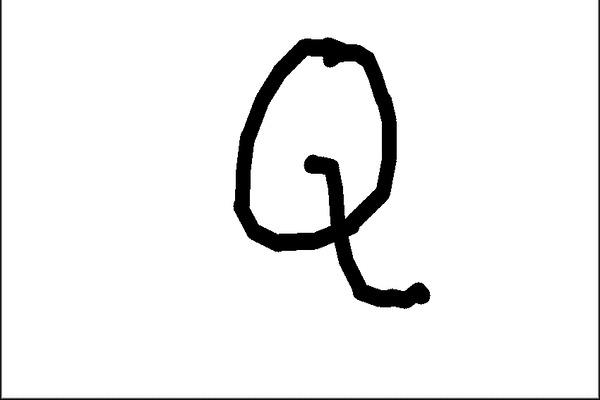Q: (223, 27, 441, 315)
